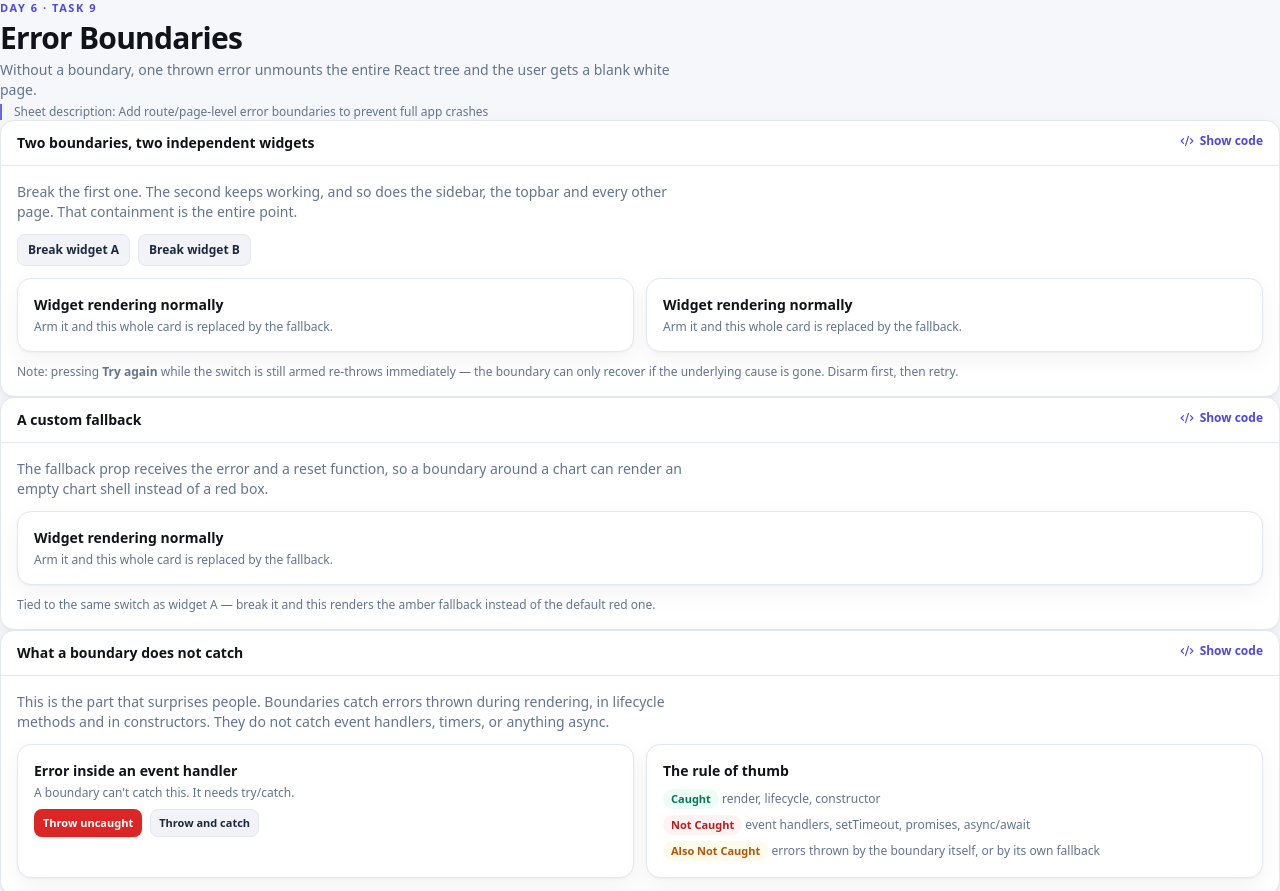
Test: task 9 — error boundaries › recovers once the cause is disarmed
Click the button "Break widget A" at (74,250), box x1=17 y1=234 x2=130 y2=266
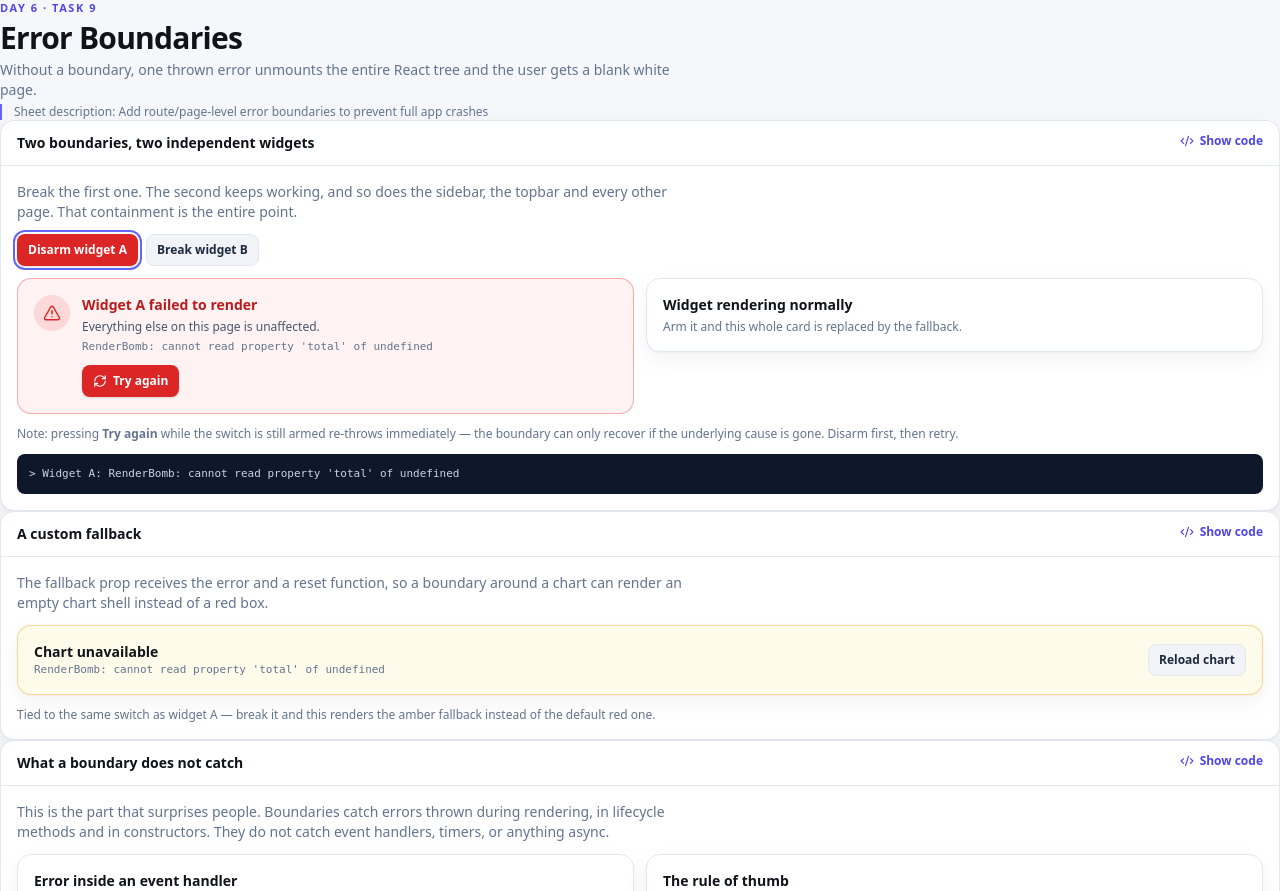
Result: the text "Widget A failed to render" is shown at x1=82 y1=295 x2=257 y2=314
Click the button "Disarm widget A" at (77,250), box x1=17 y1=234 x2=138 y2=266
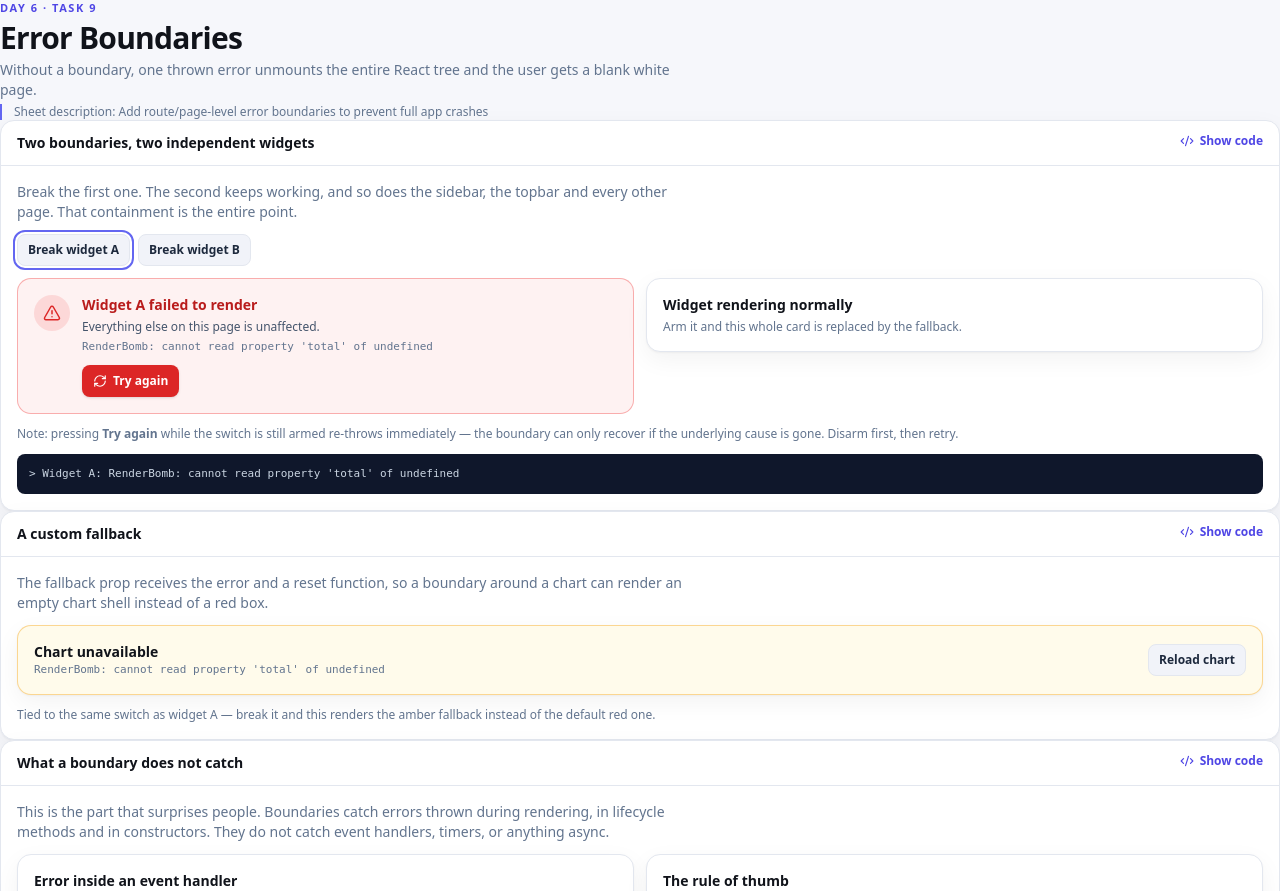
Click the button "Try again" at (131,381), box x1=82 y1=365 x2=179 y2=397
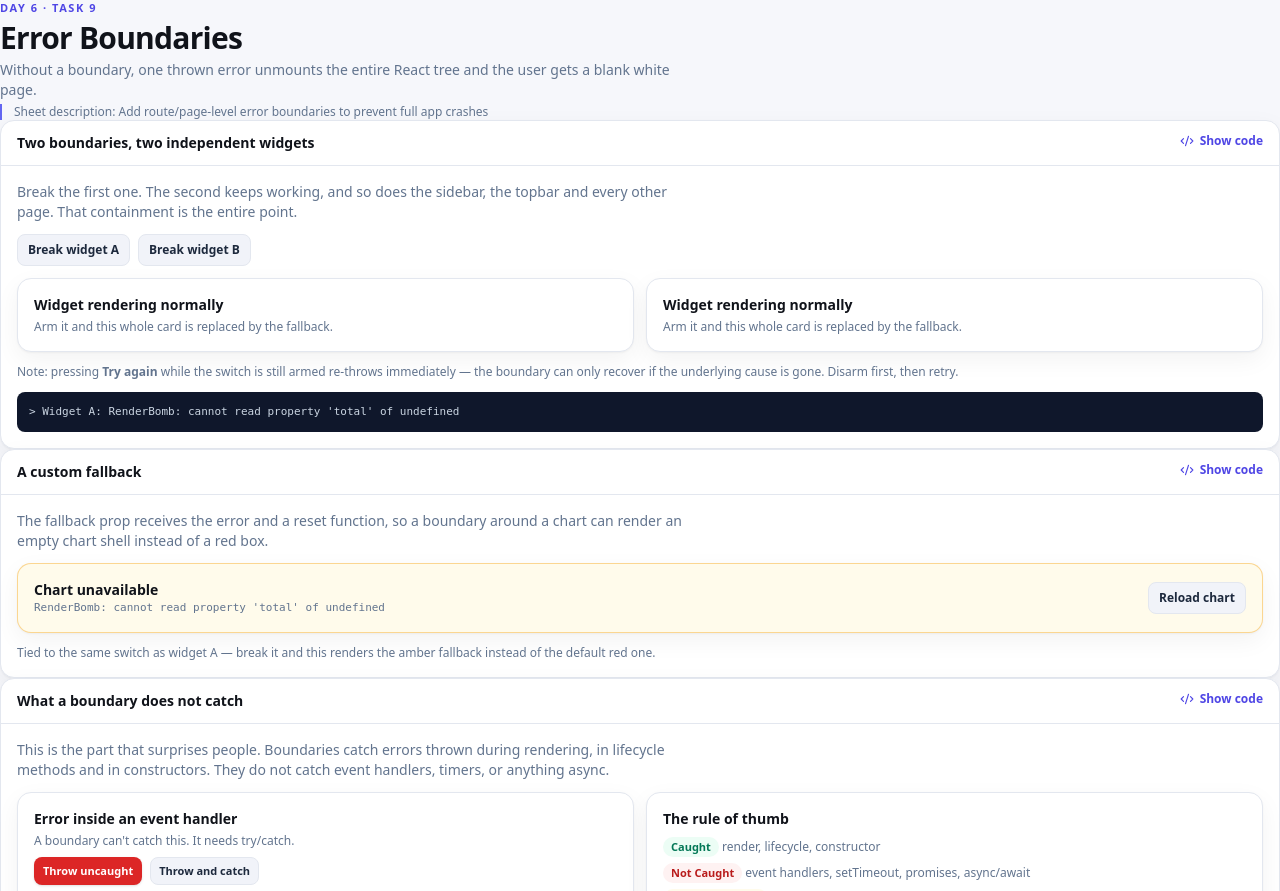
Result: the text "Widget A failed to render" is gone
